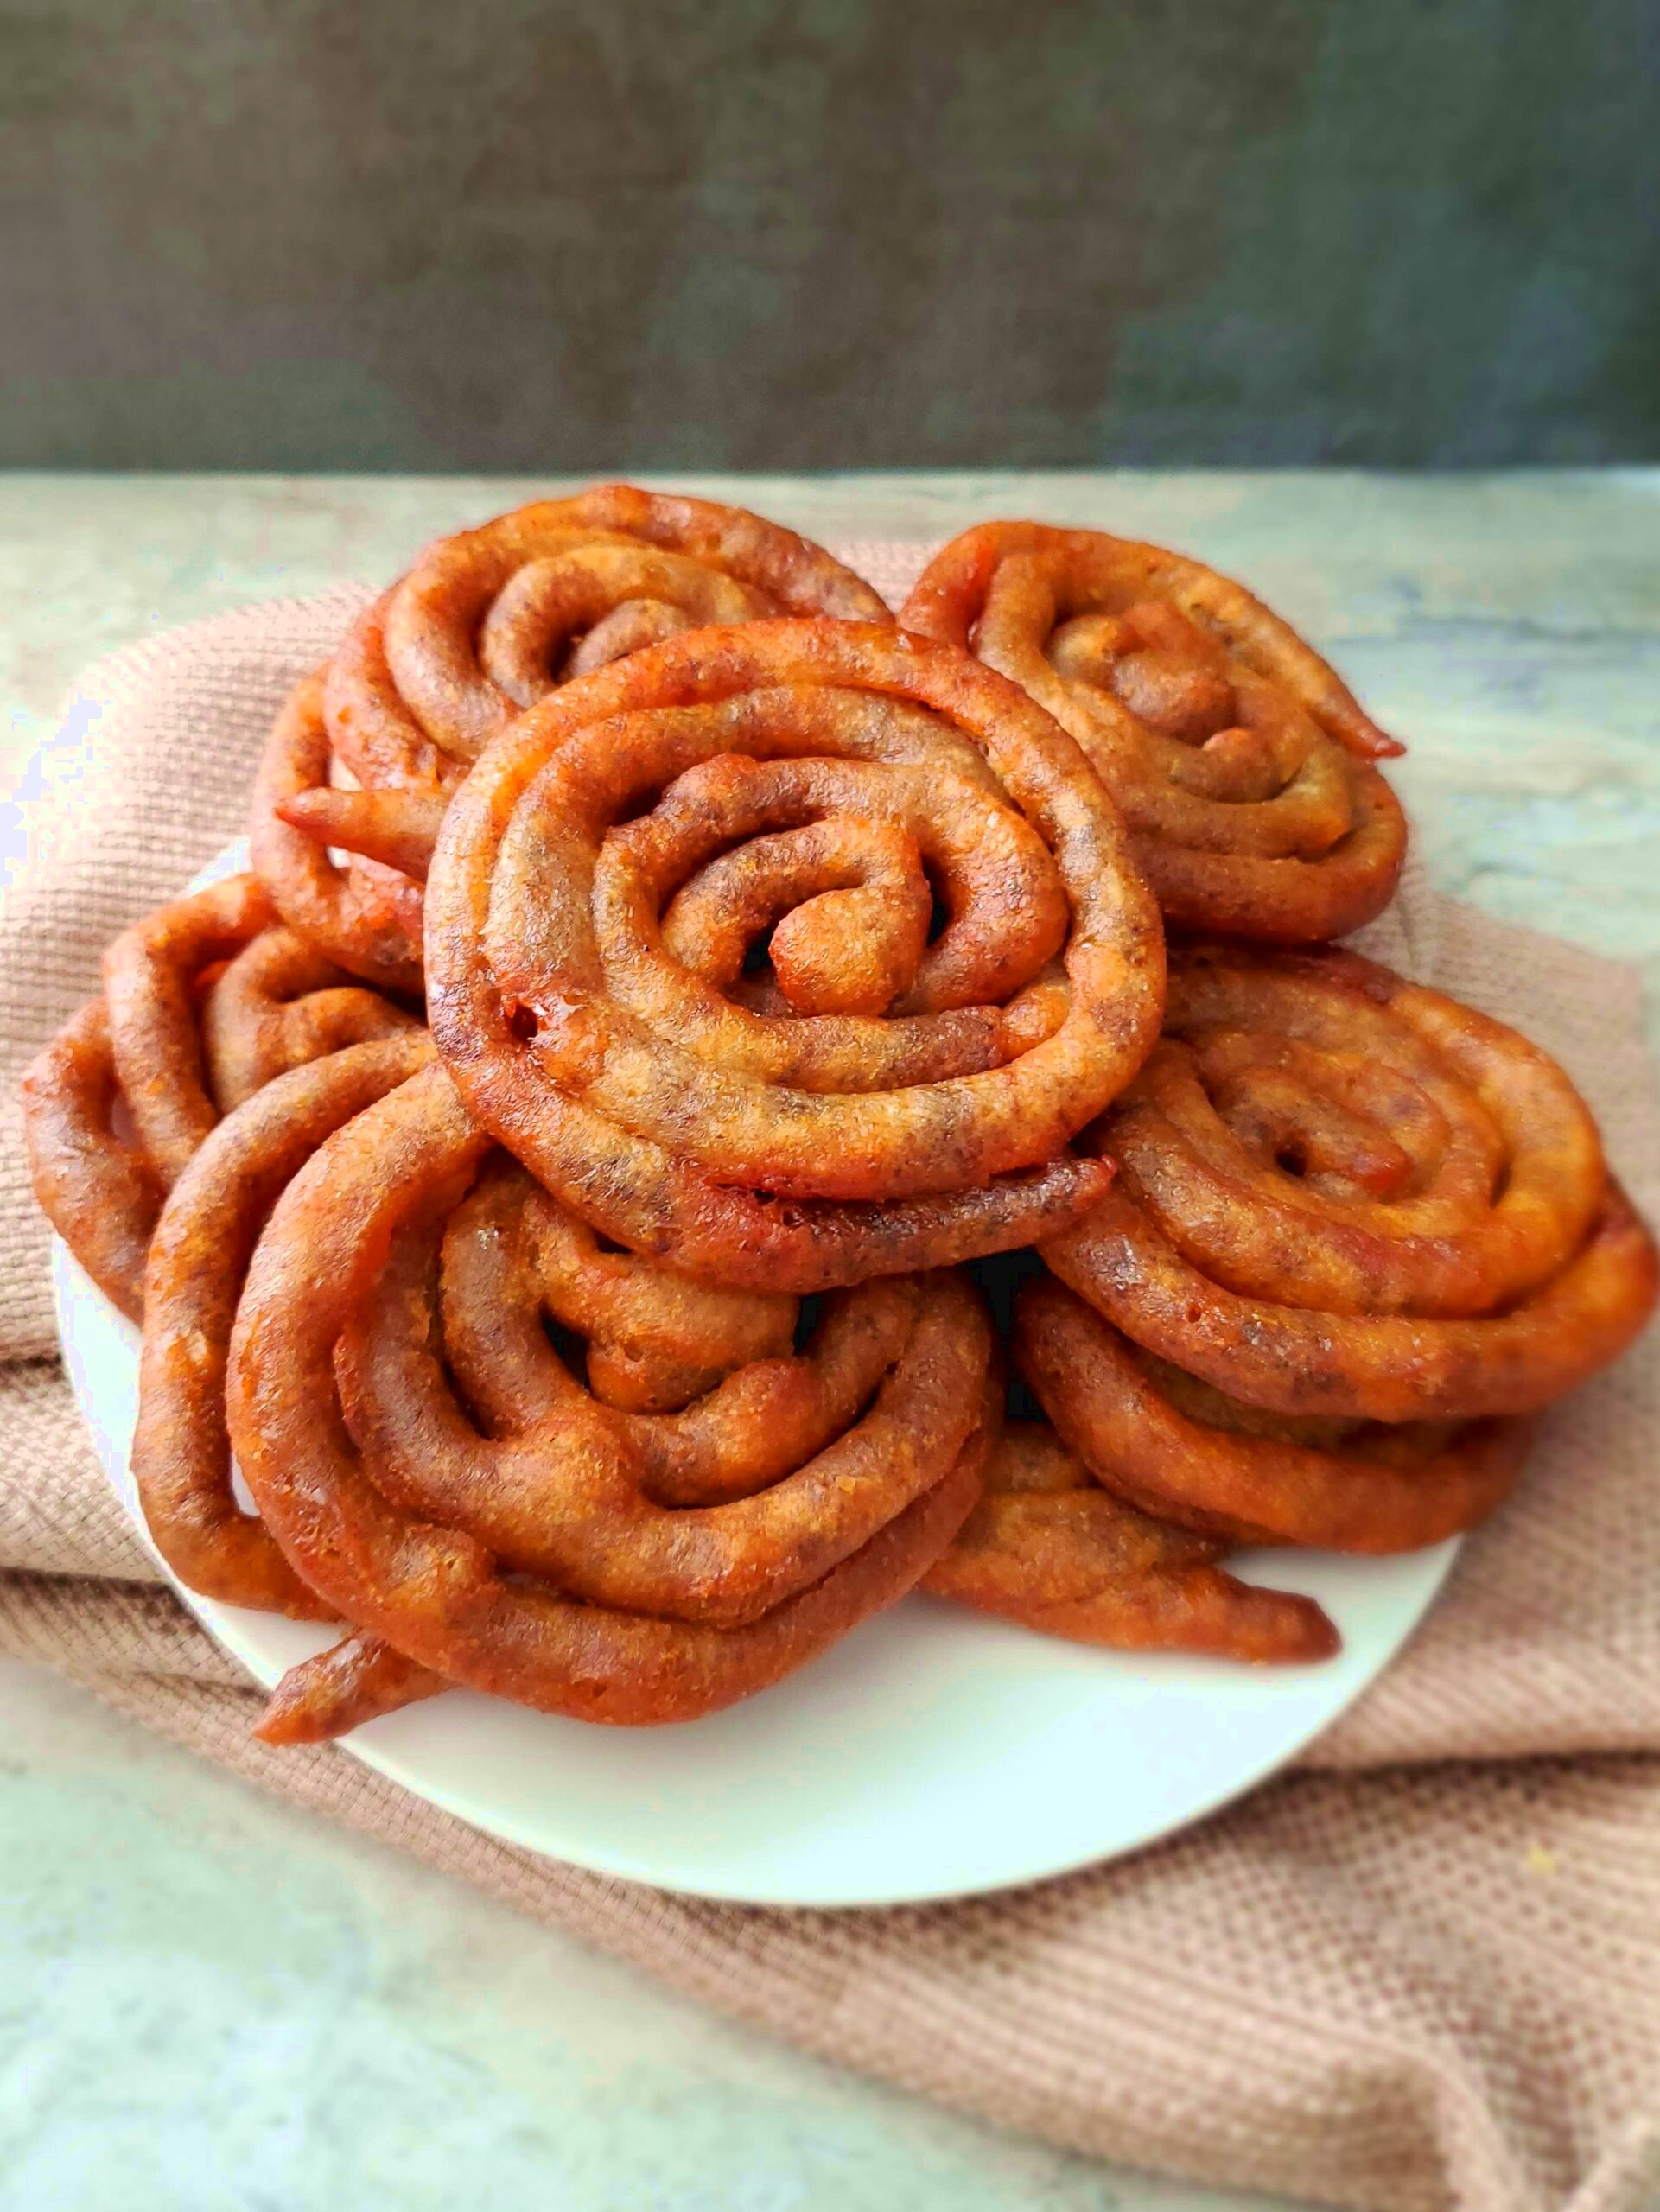pani_walalu: (129, 1046, 1029, 1726), (420, 617, 1175, 1285), (1029, 927, 1629, 1544), (907, 511, 1414, 941), (347, 490, 868, 751)
